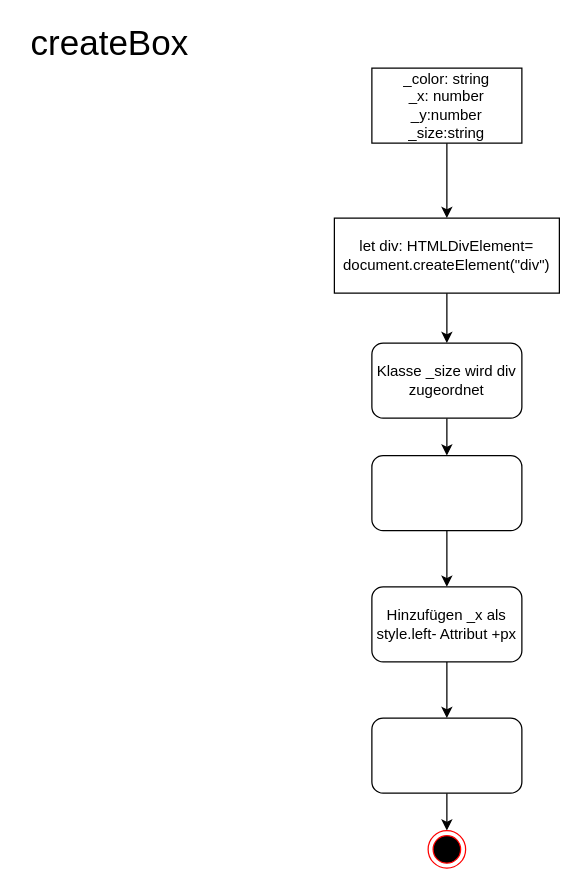
Image size: 581x890. Some labels were removed from this diagram. The centre of each missing label's shape, as x and y in pixels:
"Hinzufügen _color" goes at point (446, 492).
"Hinzufügen _y als style.left- Attribut +px" goes at point (446, 755).
